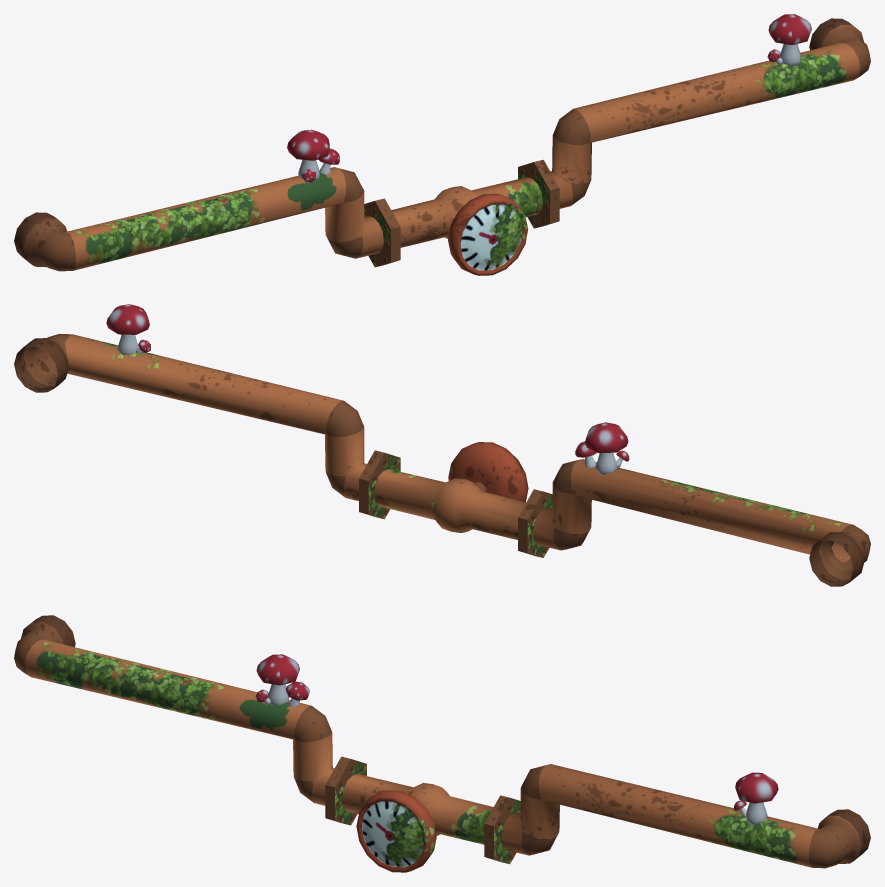
File: SteampunkPipeD.fbx
3 views of the same model, one above another, from view 1: azimuth 30°, elevation 25°; view 2: azimuth 150°, elevation 25°; view 3: azimuth 330°, elevation 25° (orthographic).
Visible parts, largest first — view 1: SteampunkPipeD; view 2: SteampunkPipeD; view 3: SteampunkPipeD.
Part boxes in pixels (box(x1,y1,x2,y2)): SteampunkPipeD: box(14, 14, 870, 275); SteampunkPipeD: box(14, 304, 870, 586); SteampunkPipeD: box(14, 615, 870, 872).
Bounding box in the file's own units: 343 × 60.98 × 42.77.
Materials: 1 (1 with a texture image).
